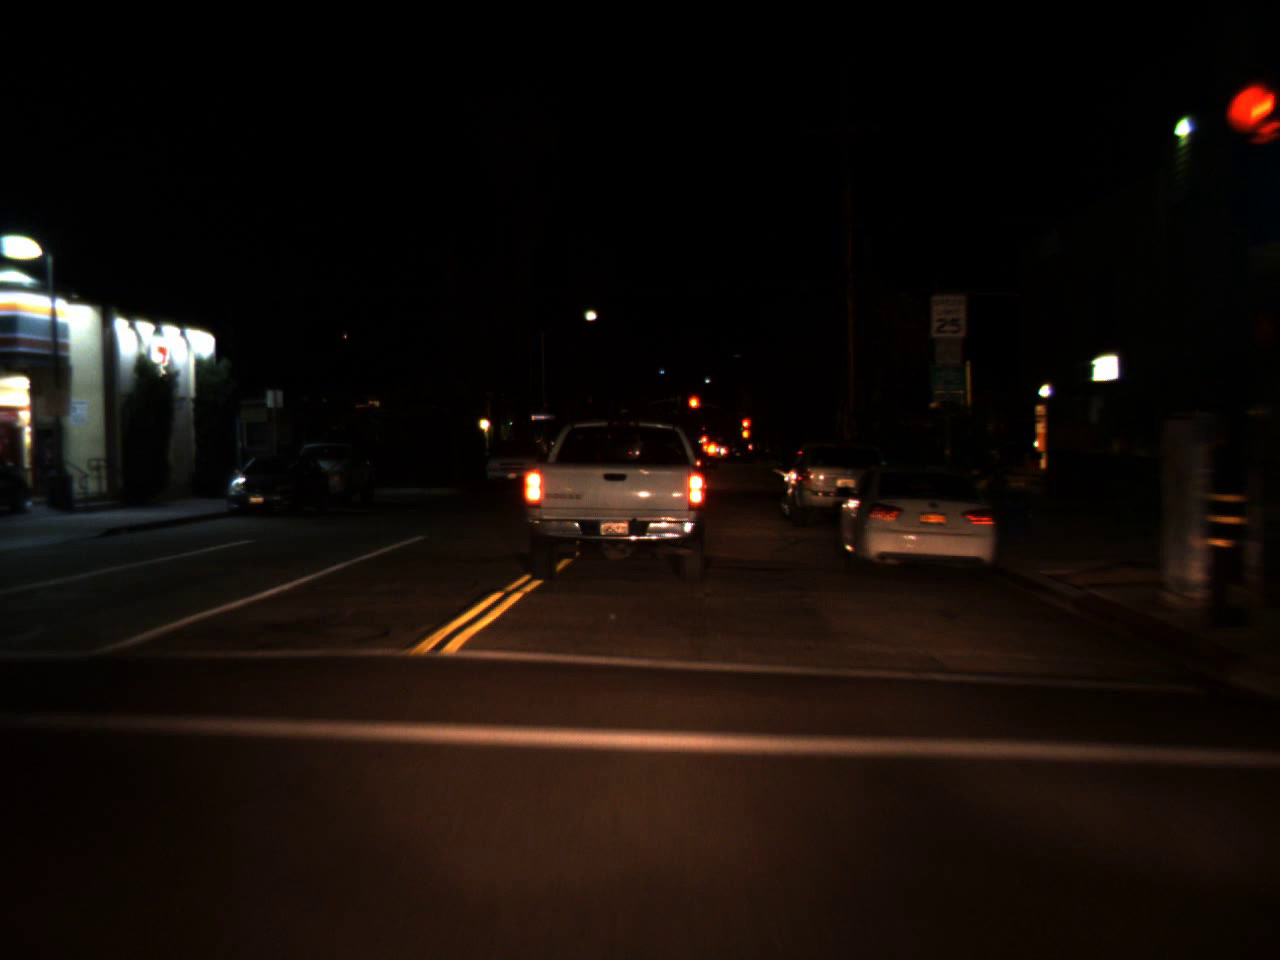stop: (686, 395, 701, 422), (740, 418, 752, 439)
